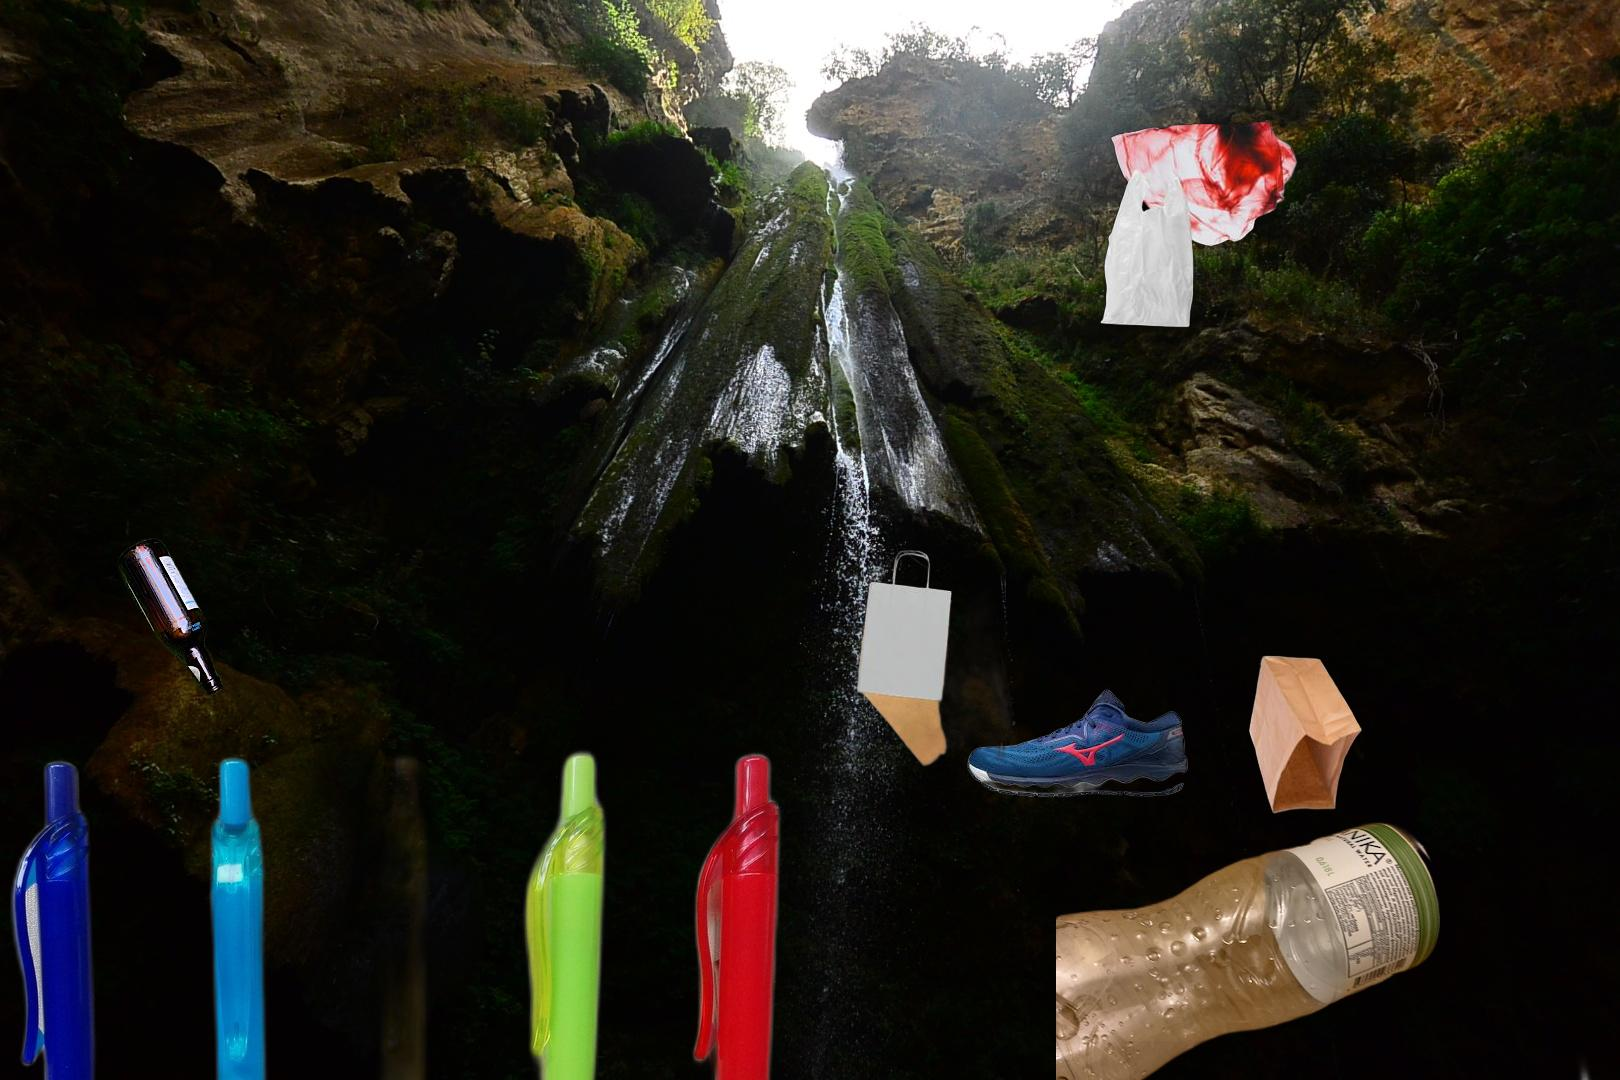glass: (115, 533, 228, 703)
paper-bag: (794, 530, 1035, 769), (1246, 655, 1363, 817)
penholder: (2, 742, 820, 1080), (975, 1041, 1620, 1080)
plastic-bag: (1091, 119, 1299, 342)
plastic-bottles: (1056, 817, 1440, 1080)
shoes: (965, 687, 1190, 856)
